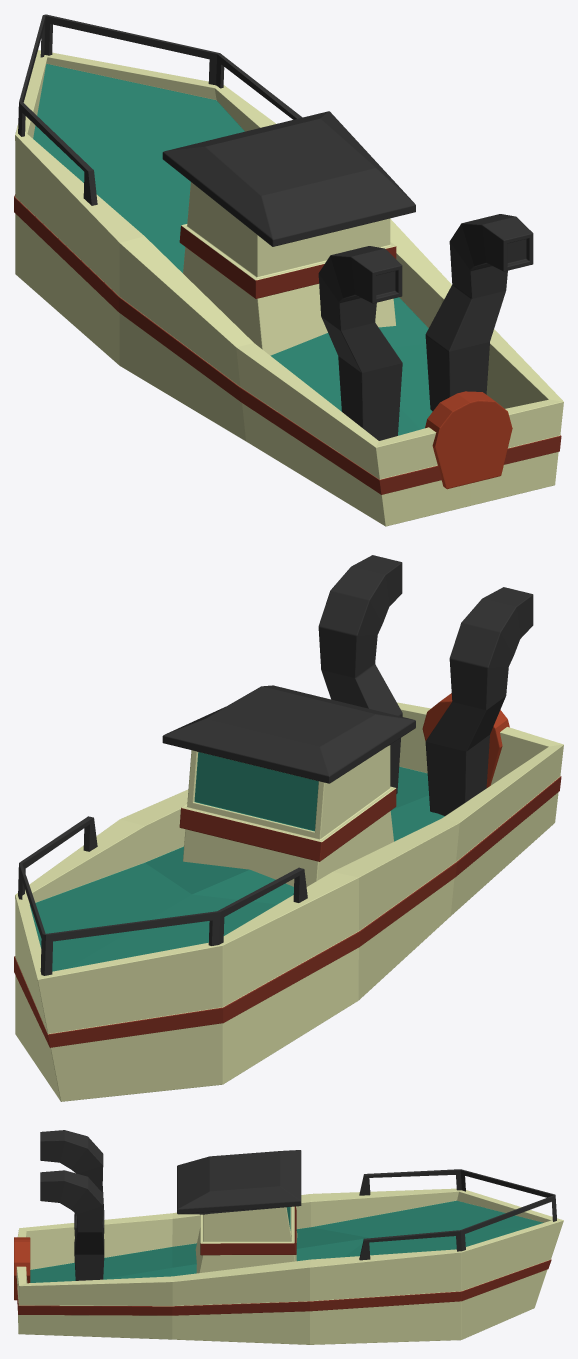
File: player_ship.fbx
The picture shows the model from 3 angles, top to bottom: view 1: azimuth 30°, elevation 25°; view 2: azimuth 150°, elevation 25°; view 3: azimuth 270°, elevation 25°; orthographic projection. The views are drawn at different scales.
Parts seen in each view (by area): view 1: Cube, Cube.001, Cube.004, Cube.002, Cube.003; view 2: Cube, Cube.001, Cube.004, Cube.003, Cube.002; view 3: Cube, Cube.001, Cube.004, Cube.003, Cube.002.
Part boxes in pixels (x1,y1,x2,y2): Cube: (14, 50, 563, 526); Cube.001: (162, 111, 415, 355); Cube.004: (318, 214, 533, 440); Cube.002: (425, 391, 512, 489); Cube.003: (18, 14, 302, 205); Cube: (14, 702, 563, 1101); Cube.001: (162, 685, 415, 886); Cube.004: (318, 555, 533, 815); Cube.003: (18, 816, 307, 975); Cube.002: (422, 693, 509, 787); Cube: (16, 1188, 563, 1344); Cube.001: (177, 1150, 301, 1273); Cube.004: (40, 1130, 104, 1280); Cube.003: (359, 1169, 556, 1260); Cube.002: (14, 1237, 30, 1300).
Bounding box in the file's own units: 362 × 348 × 1134.
